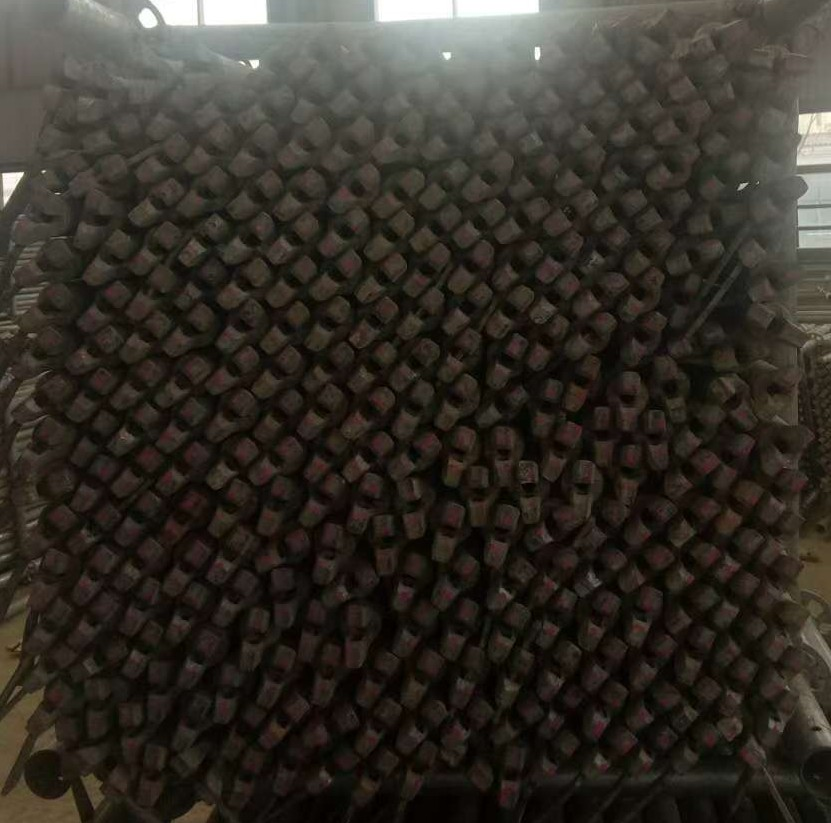NHsquare_steel: (13, 419, 63, 480), (170, 751, 224, 806), (65, 594, 117, 651), (73, 748, 127, 801), (8, 329, 65, 379), (161, 540, 210, 598), (161, 306, 215, 358), (8, 187, 56, 245), (224, 171, 282, 219), (120, 312, 172, 365), (126, 180, 182, 229), (340, 388, 397, 436), (533, 644, 581, 701), (107, 405, 159, 457), (761, 424, 812, 477), (12, 378, 72, 423), (65, 370, 115, 424), (174, 167, 229, 216), (65, 328, 123, 374), (161, 584, 207, 642), (25, 548, 68, 610), (626, 637, 677, 689), (756, 510, 806, 563), (216, 260, 270, 309), (76, 284, 130, 333), (216, 301, 264, 356), (155, 358, 210, 406), (664, 451, 720, 498), (721, 717, 766, 775), (484, 286, 535, 337), (124, 267, 174, 319), (258, 644, 298, 709), (701, 106, 750, 159), (203, 442, 256, 491), (251, 530, 312, 572), (301, 707, 362, 749), (320, 208, 370, 259), (463, 155, 514, 205), (439, 287, 490, 337), (673, 406, 723, 457), (206, 347, 256, 398), (392, 339, 442, 390), (110, 447, 161, 497), (329, 67, 381, 116), (110, 360, 162, 409), (398, 700, 447, 752), (759, 471, 807, 524), (70, 412, 118, 465), (231, 123, 278, 177), (330, 116, 377, 170), (762, 606, 809, 660), (208, 527, 251, 586), (117, 539, 163, 594), (393, 380, 435, 440), (133, 137, 190, 181), (670, 57, 727, 101), (751, 178, 808, 222), (79, 231, 129, 281), (155, 401, 204, 452), (587, 15, 639, 63), (553, 148, 605, 196), (625, 499, 677, 547), (62, 508, 120, 551), (75, 547, 118, 605), (137, 225, 184, 278), (179, 215, 226, 268), (256, 389, 303, 442), (20, 510, 74, 556), (756, 556, 802, 610), (749, 306, 809, 347), (74, 61, 113, 124), (277, 168, 326, 218), (396, 289, 446, 338), (532, 732, 580, 783), (280, 119, 332, 166), (329, 165, 381, 212), (262, 301, 309, 353), (342, 433, 394, 480), (666, 239, 727, 279), (496, 199, 549, 245), (756, 365, 802, 418), (160, 443, 206, 496), (233, 85, 297, 123), (15, 287, 69, 332), (437, 328, 481, 383), (350, 751, 394, 806), (685, 19, 750, 56), (443, 745, 492, 794), (183, 123, 231, 173), (650, 106, 710, 146), (252, 348, 300, 398), (542, 423, 582, 483), (297, 476, 345, 526), (120, 579, 160, 639), (648, 144, 699, 191), (473, 112, 530, 154), (711, 374, 753, 431), (307, 750, 359, 796), (622, 269, 667, 322), (715, 482, 760, 535), (115, 492, 160, 545), (762, 648, 807, 701), (256, 475, 295, 536), (492, 647, 533, 705), (579, 66, 633, 110), (563, 314, 617, 358), (520, 112, 575, 155), (394, 599, 437, 654), (400, 651, 443, 706), (760, 683, 800, 742), (226, 215, 274, 264), (253, 438, 301, 487), (271, 212, 318, 262), (426, 113, 476, 160), (410, 206, 460, 253), (479, 386, 530, 432), (668, 543, 719, 589), (23, 646, 74, 692), (565, 105, 618, 149), (712, 619, 765, 663), (582, 733, 635, 777), (582, 683, 626, 736), (26, 600, 69, 654), (84, 116, 142, 156), (120, 621, 160, 679), (172, 693, 212, 751), (457, 203, 505, 251), (432, 558, 480, 606), (362, 212, 411, 259), (488, 560, 535, 609), (582, 640, 629, 689), (634, 192, 693, 231), (738, 219, 784, 269), (547, 192, 597, 238), (161, 492, 207, 542), (534, 590, 575, 646), (270, 258, 315, 309), (351, 342, 396, 393), (298, 386, 343, 437), (674, 724, 719, 775), (536, 233, 580, 285), (210, 479, 250, 536), (600, 147, 653, 190), (710, 72, 773, 108), (561, 355, 600, 413), (662, 590, 720, 629), (531, 274, 578, 322), (580, 502, 627, 550), (15, 243, 70, 284), (489, 602, 530, 657), (421, 160, 467, 209), (510, 155, 559, 201), (175, 261, 221, 310), (622, 546, 671, 592), (381, 165, 426, 215), (389, 434, 439, 479), (261, 697, 306, 747), (403, 246, 447, 297), (668, 500, 719, 544), (575, 550, 626, 594), (626, 685, 677, 729), (399, 742, 437, 801), (290, 72, 333, 124), (208, 390, 251, 442), (573, 273, 626, 315), (440, 601, 479, 658), (391, 554, 428, 614), (350, 299, 397, 346), (378, 113, 424, 161), (310, 253, 358, 299), (303, 298, 348, 347), (760, 80, 798, 138), (358, 652, 398, 707), (677, 627, 713, 688), (149, 88, 192, 139), (451, 243, 494, 294), (386, 74, 442, 113), (435, 378, 477, 430), (536, 547, 578, 599), (359, 697, 398, 753), (12, 472, 74, 507), (306, 345, 353, 391), (580, 230, 628, 275), (620, 315, 665, 363), (215, 570, 255, 624), (356, 256, 405, 300), (70, 643, 128, 680), (624, 62, 679, 101), (656, 358, 690, 421), (713, 573, 754, 625), (70, 458, 110, 511), (183, 631, 223, 684), (704, 155, 750, 201), (636, 10, 681, 57), (755, 133, 799, 181), (137, 743, 170, 807), (451, 646, 485, 708), (488, 73, 542, 112), (608, 106, 658, 148), (26, 683, 68, 733), (321, 568, 376, 606), (577, 594, 615, 649), (625, 588, 661, 646), (482, 505, 515, 568), (743, 266, 804, 300), (440, 427, 474, 488), (524, 510, 580, 547), (37, 52, 72, 111), (347, 472, 382, 531), (538, 690, 581, 738), (529, 315, 567, 369), (396, 476, 429, 538), (80, 679, 114, 739), (592, 192, 647, 229), (497, 243, 543, 287), (441, 707, 487, 751), (720, 656, 756, 712), (488, 335, 526, 388), (710, 436, 751, 485), (431, 502, 465, 561), (39, 101, 76, 155), (719, 529, 758, 580), (74, 189, 106, 251), (315, 523, 347, 585), (496, 746, 528, 808), (626, 233, 670, 278), (629, 729, 673, 774), (490, 704, 542, 742), (228, 749, 262, 807), (675, 679, 716, 727), (311, 645, 343, 706), (306, 435, 346, 483), (238, 610, 270, 670), (193, 86, 242, 125), (532, 379, 563, 440), (270, 735, 301, 796), (214, 662, 244, 725), (146, 661, 175, 726), (539, 69, 583, 111), (343, 601, 370, 669), (270, 568, 299, 631), (297, 601, 326, 664), (713, 340, 770, 372), (182, 38, 212, 98), (752, 45, 814, 74), (666, 325, 724, 356), (616, 369, 644, 433), (128, 44, 157, 104), (489, 424, 516, 488), (517, 460, 544, 524), (466, 465, 495, 524), (686, 202, 745, 230), (371, 514, 397, 577), (117, 701, 143, 764), (570, 458, 597, 517), (34, 158, 87, 188), (671, 273, 701, 326), (618, 442, 643, 505), (590, 406, 614, 469), (647, 411, 671, 472)
circle_steel: (20, 751, 71, 801), (796, 747, 831, 801)
